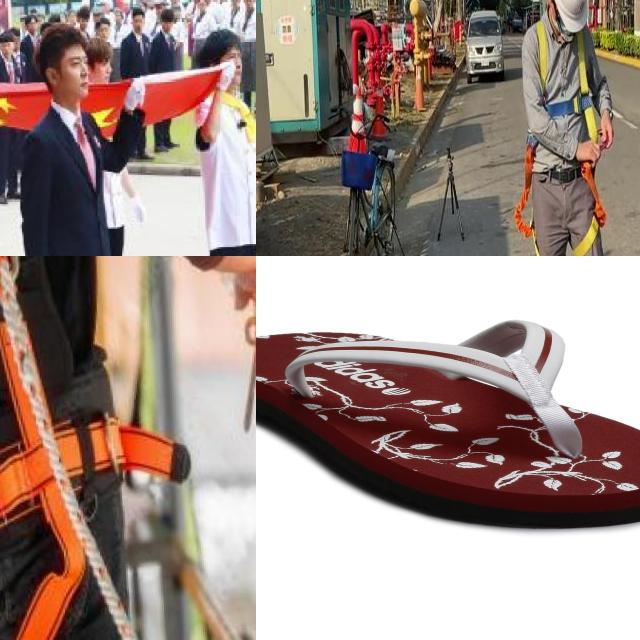Harness: (0, 256, 206, 640), (536, 21, 597, 140), (514, 135, 542, 256), (574, 163, 607, 256)
No_Glasses: (63, 55, 89, 69)
Sandals: (256, 317, 640, 530)
face_nomask: (48, 42, 99, 95)
hand_glove: (124, 75, 146, 113), (216, 63, 236, 90), (132, 194, 148, 226)
head_nohelmet: (31, 21, 87, 53)
person: (11, 21, 125, 256), (183, 35, 256, 256)
